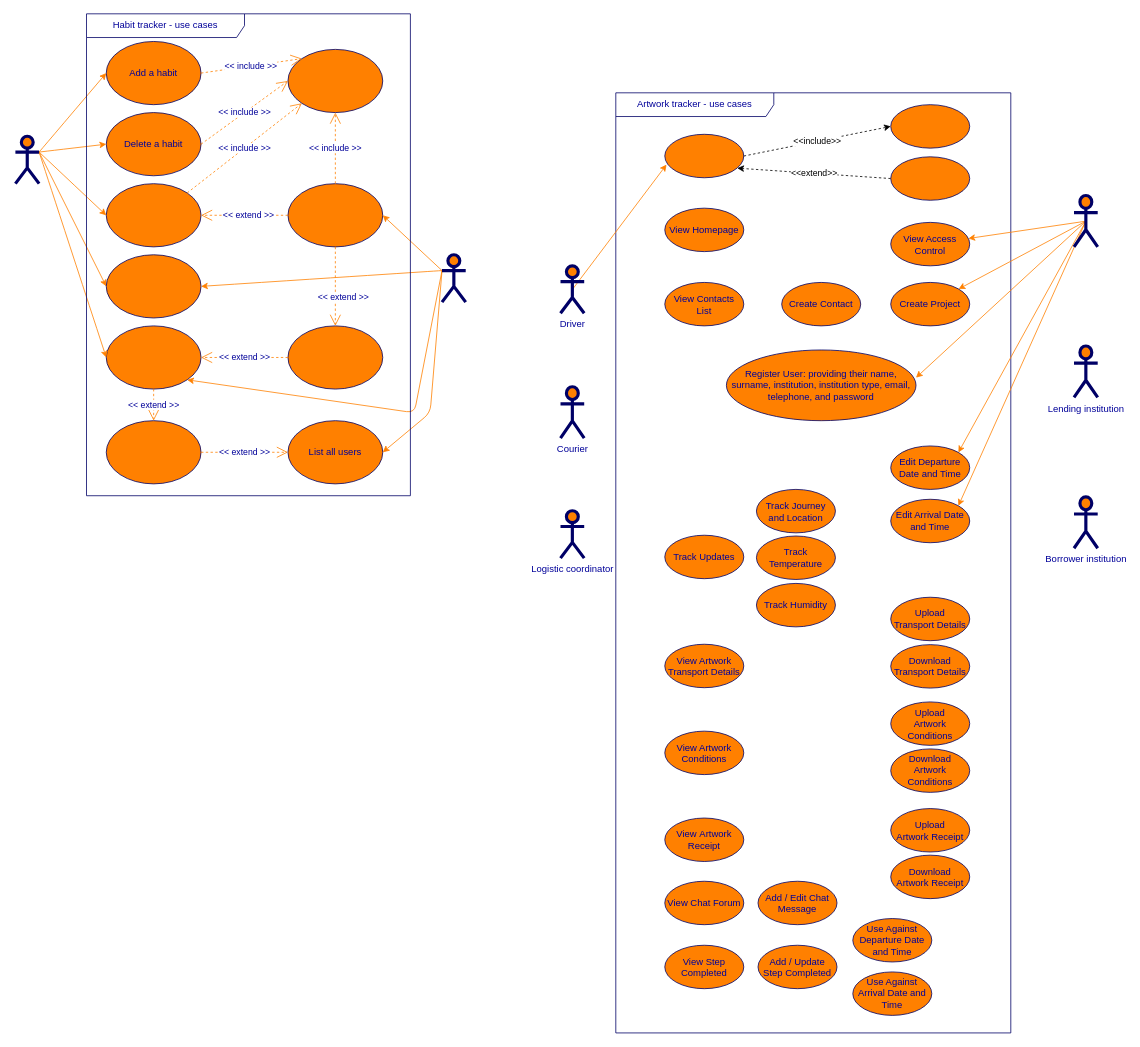
Image size: 1140x1047. Some labels were removed from this diagram. The shapes that lost their labels are listed below. From the top down, each one's centre as x and y in pixels, then its label:
(335,81): Update habit history
(930,126): Verify Password
(26,159): User
(704,156): Login
(930,178): Display Login Error
(153,215): Mark habit as done today
(335,215): Add a comment
(1085,221): Administrator
(153,286): List habits
(453,278): Coach
(153,357): View habit history
(335,357): View single habit check-in
(153,452): View one user's habits
